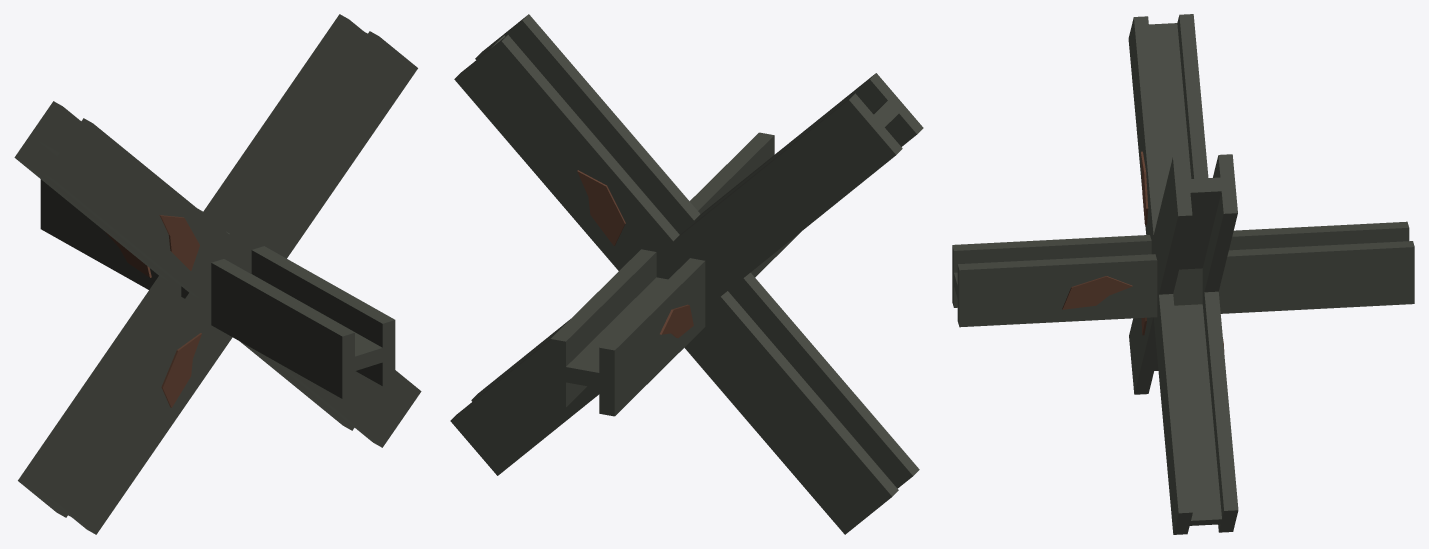
The model's file is tank_trap_a.obj.
3 views of the same model, side by side, from view 1: azimuth 30°, elevation 25°; view 2: azimuth 150°, elevation 25°; view 3: azimuth 270°, elevation 25° (orthographic). The views are drawn at different scales.
Parts seen in each view (by area): view 1: tank_trap_a; view 2: tank_trap_a; view 3: tank_trap_a.
Part boxes in pixels (x1,y1,x2,y2): tank_trap_a: (14,14,421,534); tank_trap_a: (450,14,923,534); tank_trap_a: (952,14,1414,534).
Size of the model in its own units: 1.61 by 1.6 by 1.76.
